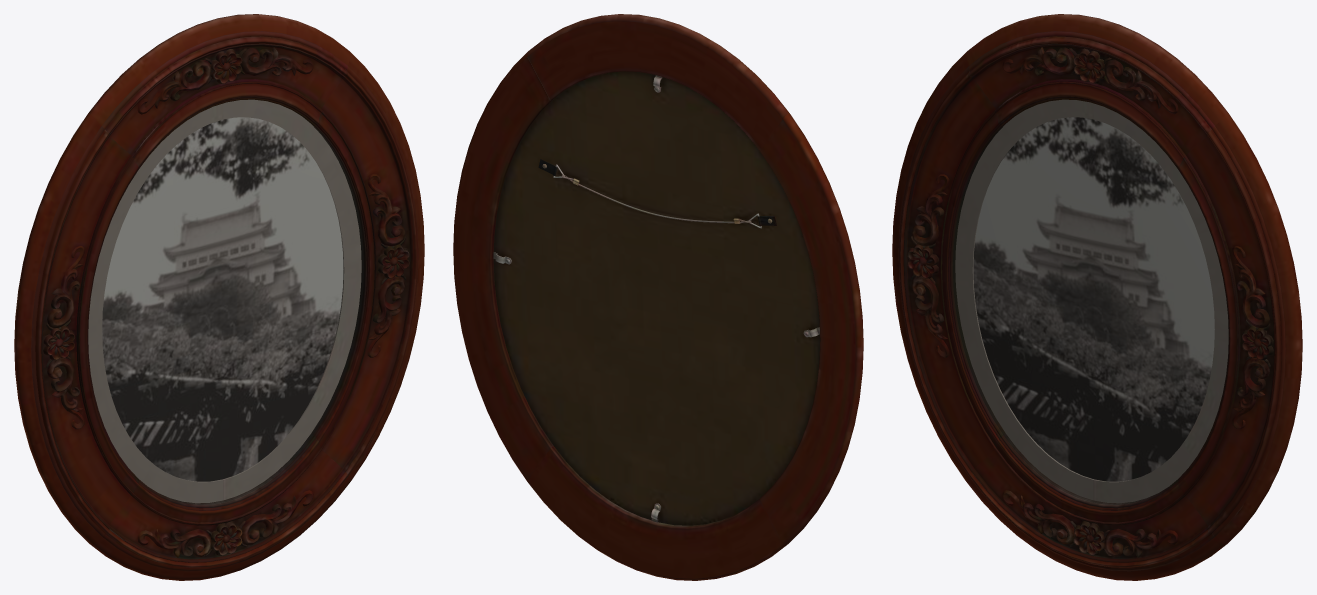
Rendered from hanging_picture_frame_03.gltf.
3 renders of one model, left to right at view 1: azimuth 30°, elevation 25°; view 2: azimuth 150°, elevation 25°; view 3: azimuth 330°, elevation 25°, orthographic.
Parts seen in each view (by area): view 1: hanging_picture_frame_03, hanging_picture_frame_03_glass; view 2: hanging_picture_frame_03; view 3: hanging_picture_frame_03, hanging_picture_frame_03_glass.
Boxes of the visible parts, x1,y1,x2,y2 form: hanging_picture_frame_03: (14,14,424,580); hanging_picture_frame_03_glass: (88,100,363,504); hanging_picture_frame_03: (453,14,863,580); hanging_picture_frame_03: (892,14,1302,580); hanging_picture_frame_03_glass: (953,100,1228,504).
Size of the model in its own units: 0.385 by 0.5024 by 0.0318.
Materials: 3 (2 with a texture image).
